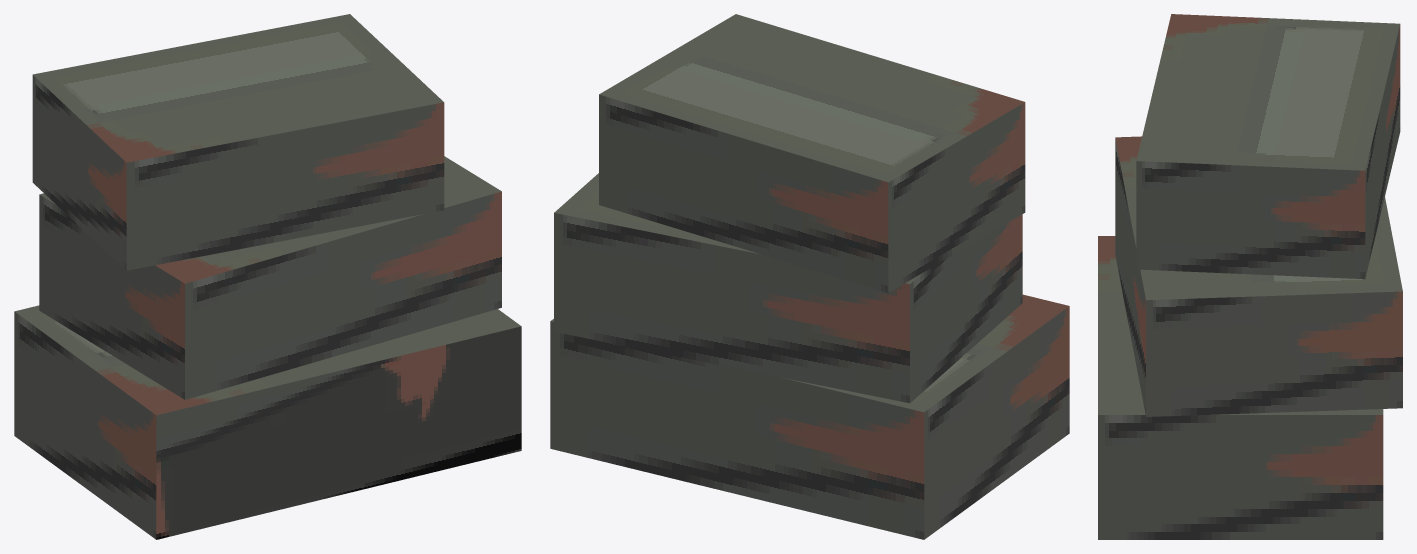
File: Building_AncientAmmoStack.glb
3 renders of one model, left to right at view 1: azimuth 30°, elevation 25°; view 2: azimuth 150°, elevation 25°; view 3: azimuth 270°, elevation 25°, orthographic. The views are drawn at different scales.
Parts seen in each view (by area): view 1: AncientAmmoStack; view 2: AncientAmmoStack; view 3: AncientAmmoStack.
Part boxes in pixels (x1,y1,x2,y2): AncientAmmoStack: [14, 14, 521, 539]; AncientAmmoStack: [550, 14, 1069, 539]; AncientAmmoStack: [1098, 14, 1402, 539].
Size of the model in its own units: 0.931 by 0.84 by 0.6627.
Materials: 1 (1 with a texture image).
